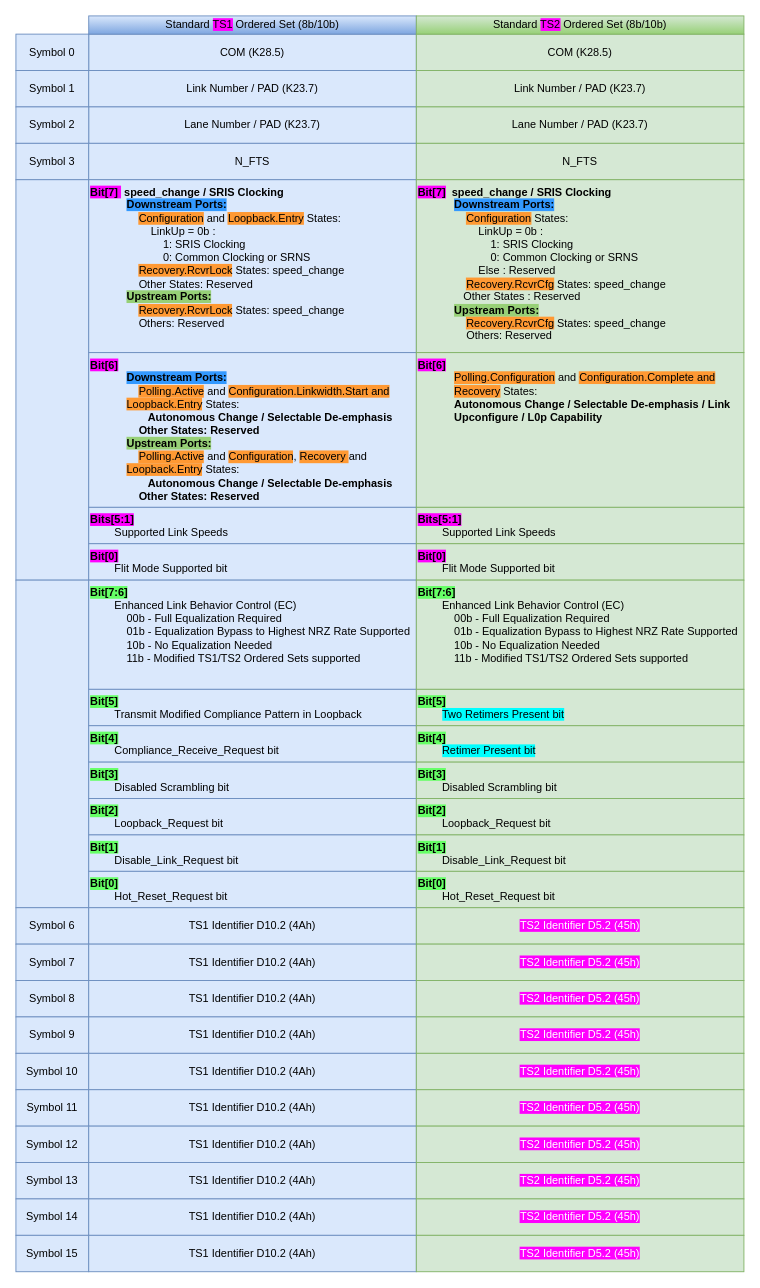
Some shapes in this 760 by 1288 pixel diagram are drawn without their labels. The centre of each missing label's shape, as x and y in pixels:
"Symbol 4" goes at [52,379].
"Symbol 5" goes at [52,743].
